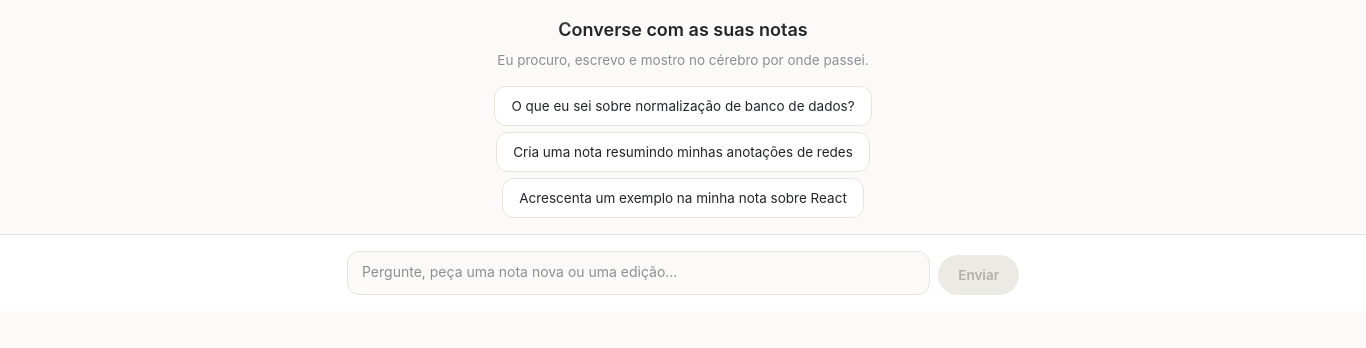
Scenario: Chat — passos do agente ao vivo › avisa a nota criada já no passo, mesmo se o modelo falhar depois — e só uma vez
Type "Cria uma nota" into the text box with placeholder "Pergunte, peça uma nota nova ou uma edição…" at (639, 273), box [347,251,930,295]
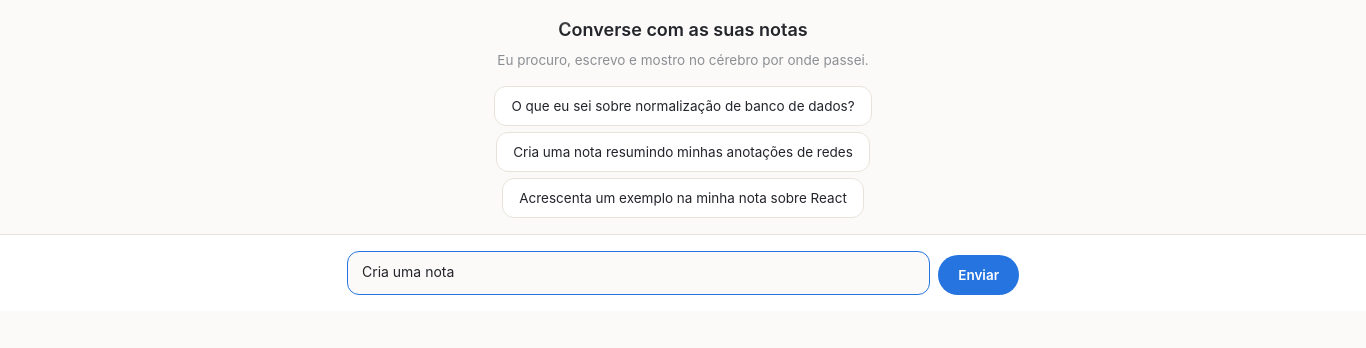
Click the button "Enviar" at (979, 275), box [938,255,1019,295]
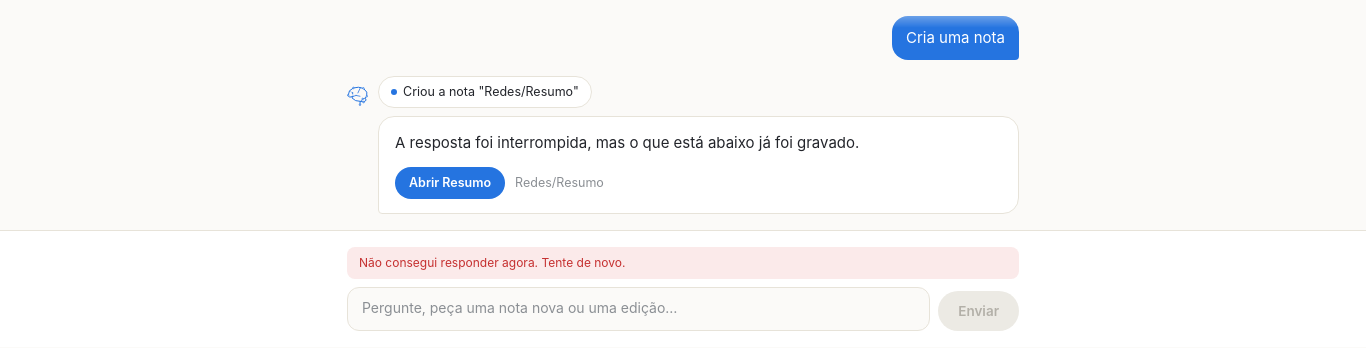
Expected: the text "Não consegui responder agora. Tente de novo." is shown, [347,247,1019,279]
Expected: the button "Abrir Resumo" is shown, [395,167,505,199]
